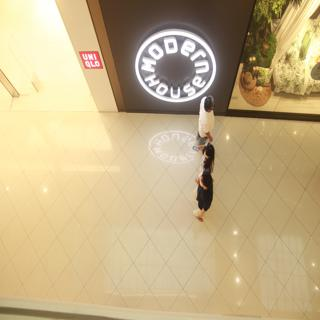person: (195, 90, 220, 147), (190, 171, 214, 228), (196, 148, 222, 170)
